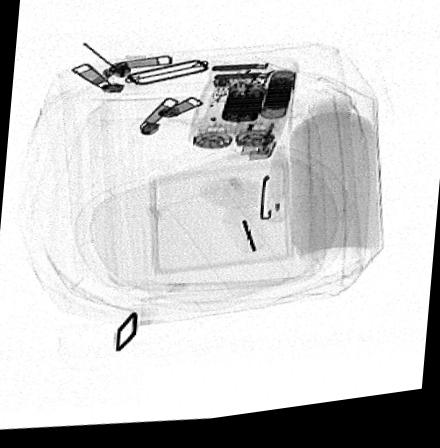Lighter: (236, 109, 293, 168)
